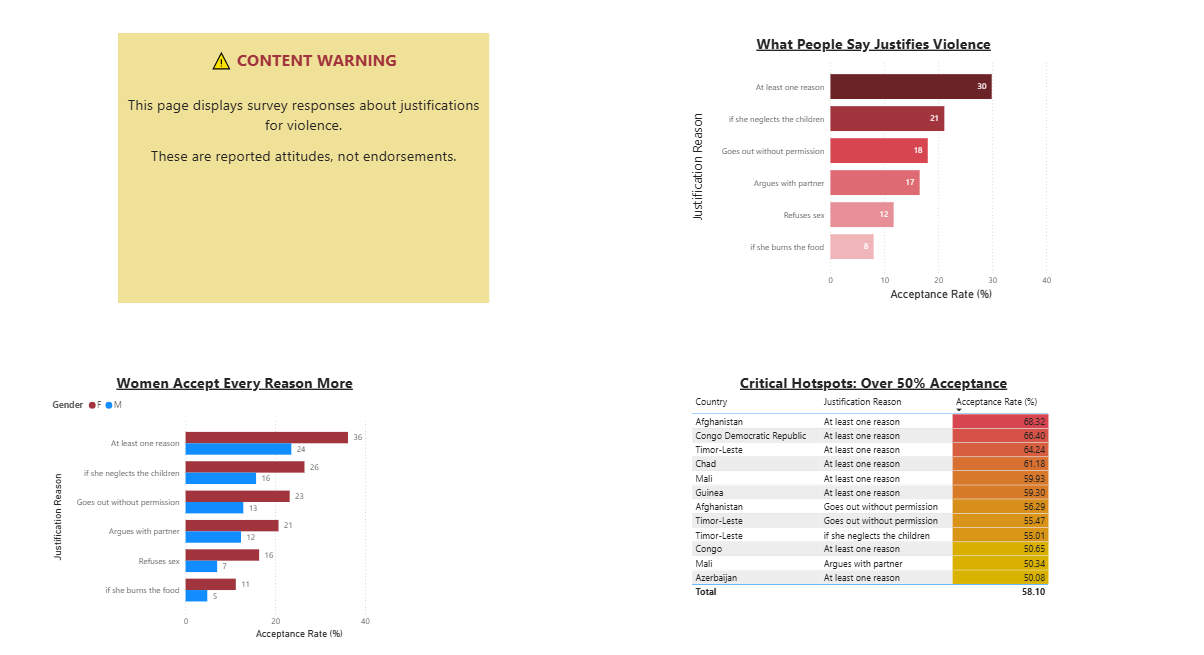

This screenshot's page, from the dashboard's own definition file:
{"tool":"powerbi","page":{"name":"WHY PEOPLE JUSTIFY HARM","canvas":[1800,1000],"ordinal":3},"visuals":[{"type":"textbox","box":[186.4,56.8,550,400],"z":0},{"type":"clusteredBarChart","title":"What People Say Justifies Violence","fields":{"Y":["Avg(violence_data.Value)"],"Category":["violence_data.Question"]},"box":[1031.8,56.8,550,400],"z":1000},{"type":"clusteredBarChart","title":"Women Accept Every Reason More","fields":{"Y":["Avg(violence_data.Value)"],"Series":["violence_data.Gender"],"Category":["violence_data.Question"]},"box":[84.1,559.1,550,400],"z":2000},{"type":"tableEx","title":"Critical Hotspots: Over 50% Acceptance","fields":{"Values":["violence_data.Country","violence_data.Question","Avg(violence_data.Value)"]},"box":[1031.8,559.1,550,400],"z":3000}]}

Visuals, with their boxes in screenshot pixels (x1, y1, x2, y2), scaled from the page's 1800x1000 canvas onto the 1204x655 screenshot:
textbox: [125,37,493,299]
"What People Say Justifies Violence" clusteredBarChart: [690,37,1058,299]
"Women Accept Every Reason More" clusteredBarChart: [56,366,424,628]
"Critical Hotspots: Over 50% Acceptance" tableEx: [690,366,1058,628]
